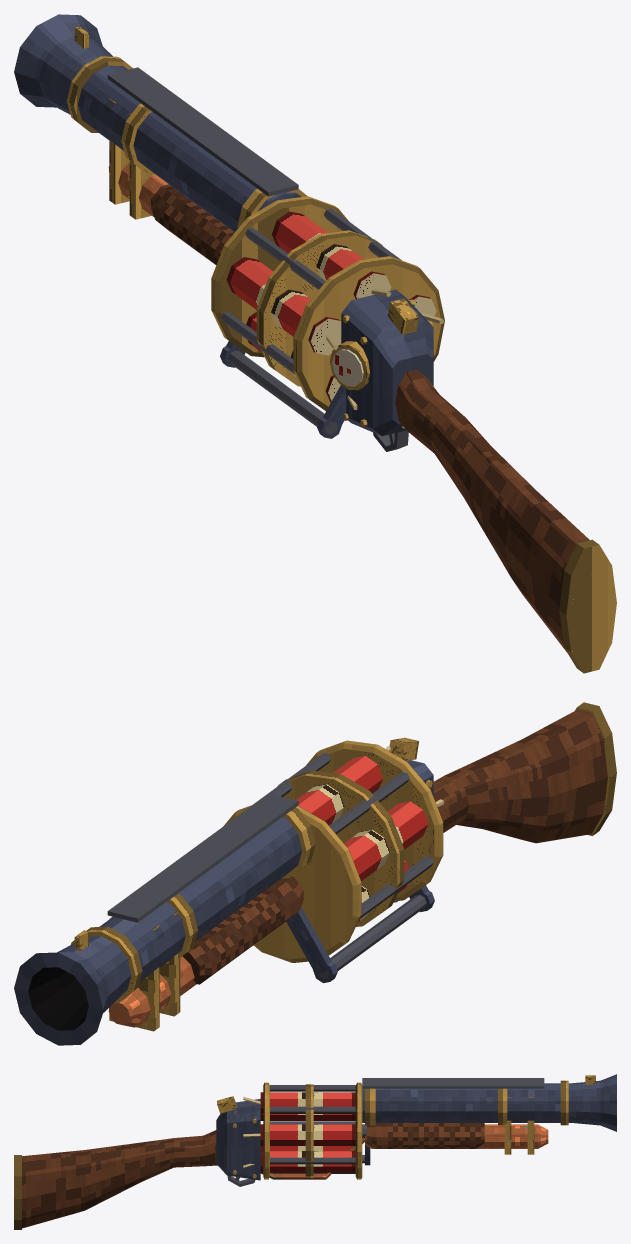
The model's file is dynamiteLauncher.glb.
3 renders of one model, top to bottom at view 1: azimuth 30°, elevation 25°; view 2: azimuth 150°, elevation 25°; view 3: azimuth 270°, elevation 25°, orthographic. The views are drawn at different scales.
Visible parts, largest first — view 1: frame, drum, stick_4, stick_0, crane; view 2: frame, drum, crane, stick_4, stick_0; view 3: frame, drum, stick_1, stick_0, stick_2, stick_4, stick_3.
Boxes of the visible parts, bbox=[...] form: frame: bbox=[14, 14, 616, 673]; drum: bbox=[211, 196, 444, 410]; stick_4: bbox=[226, 257, 341, 355]; stick_0: bbox=[271, 211, 391, 298]; crane: bbox=[226, 341, 346, 434]; frame: bbox=[14, 702, 616, 1045]; drum: bbox=[223, 740, 443, 962]; crane: bbox=[286, 885, 428, 979]; stick_4: bbox=[344, 799, 443, 881]; stick_0: bbox=[296, 746, 390, 825]; frame: bbox=[14, 1074, 616, 1229]; drum: bbox=[263, 1082, 362, 1179]; stick_1: bbox=[243, 1124, 355, 1145]; stick_0: bbox=[243, 1092, 355, 1113]; stick_2: bbox=[243, 1151, 355, 1172]; stick_4: bbox=[260, 1114, 355, 1120]; stick_3: bbox=[260, 1146, 351, 1150].
Size of the model in its own units: 0.1464 by 0.253 by 0.912.
Materials: 10 (7 with a texture image).
